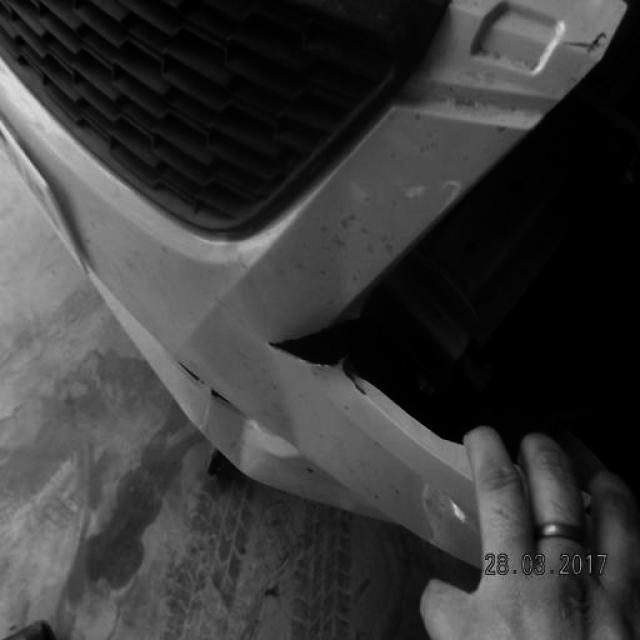car damage: (269, 292, 368, 394)
